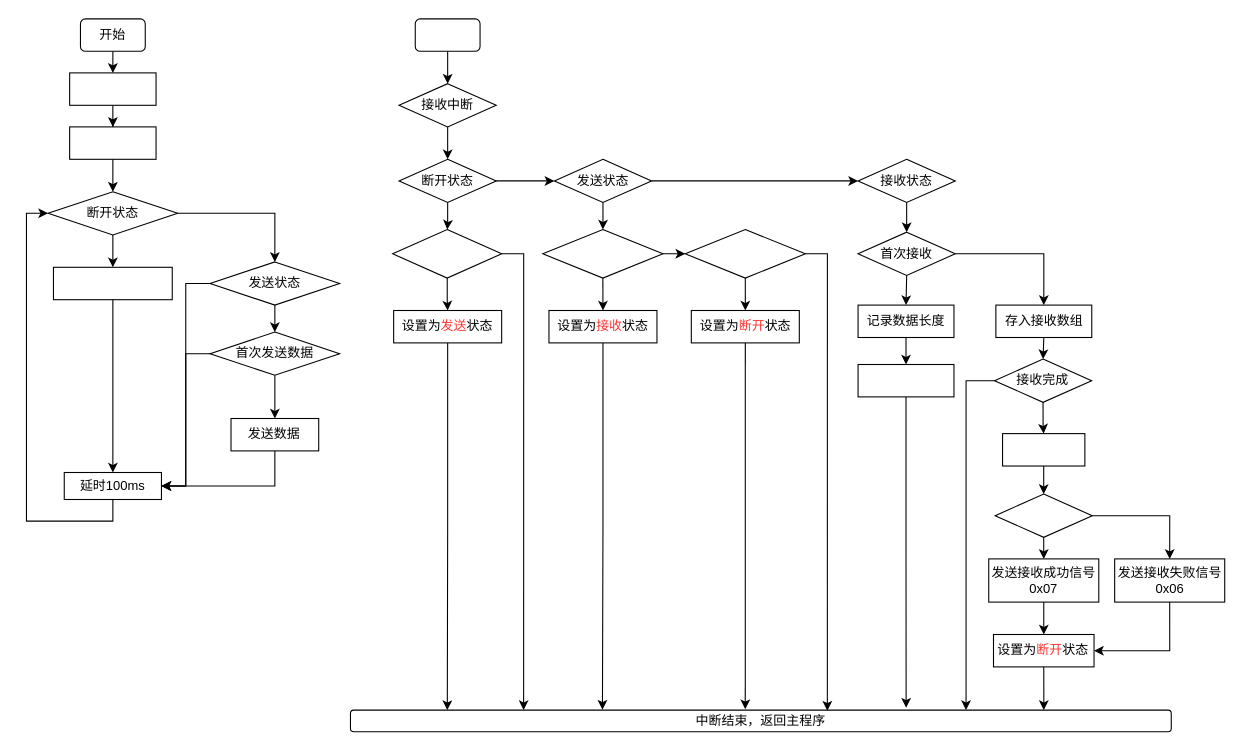
This 1244x751 diagram has some shape labels left out. Each missing label, with the centre of its shape:
"OLED初始化" goes at (x=112, y=88).
"串口中断" goes at (x=447, y=34).
"串口初始化" goes at (x=112, y=142).
"发送询问信号0x80" goes at (x=112, y=283).
"存入接收数组[0]" goes at (x=905, y=380).
"应答信号 0x70" goes at (x=447, y=253).
"接收失败 0x06" goes at (x=744, y=253).
"接收成功 0x07" goes at (x=602, y=253).
"接收正确" goes at (x=1043, y=515).
"计算校验和" goes at (x=1043, y=449).
